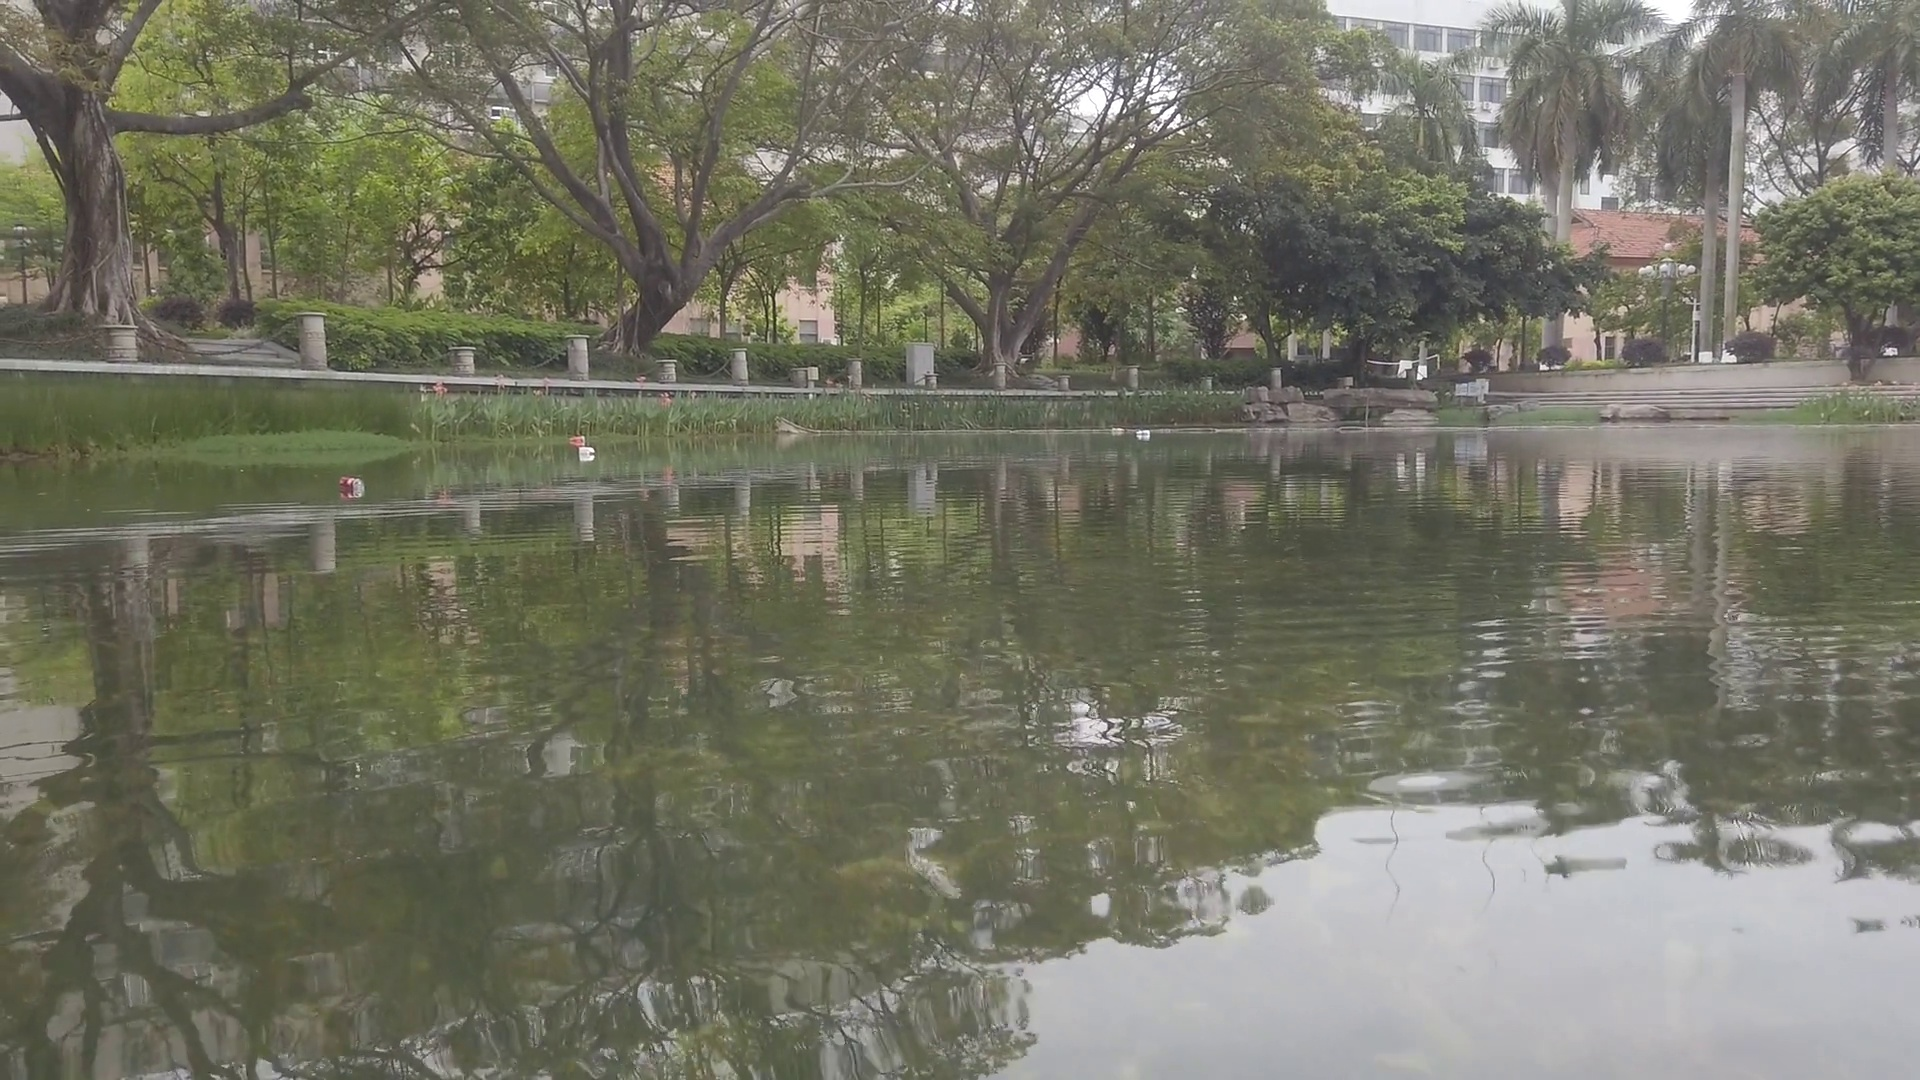bottle: (339, 475, 363, 491), (570, 435, 585, 444), (1137, 430, 1150, 436), (1113, 429, 1126, 433)
carton: (579, 447, 596, 456)
